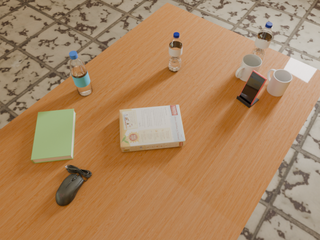book: (31, 109, 75, 163)
bottle: (69, 51, 92, 96), (251, 22, 273, 62), (168, 32, 183, 72)
box: (120, 105, 185, 152)
cup: (236, 54, 262, 82), (267, 69, 292, 96)
mouse: (56, 165, 92, 206)
phone: (239, 70, 267, 105)
